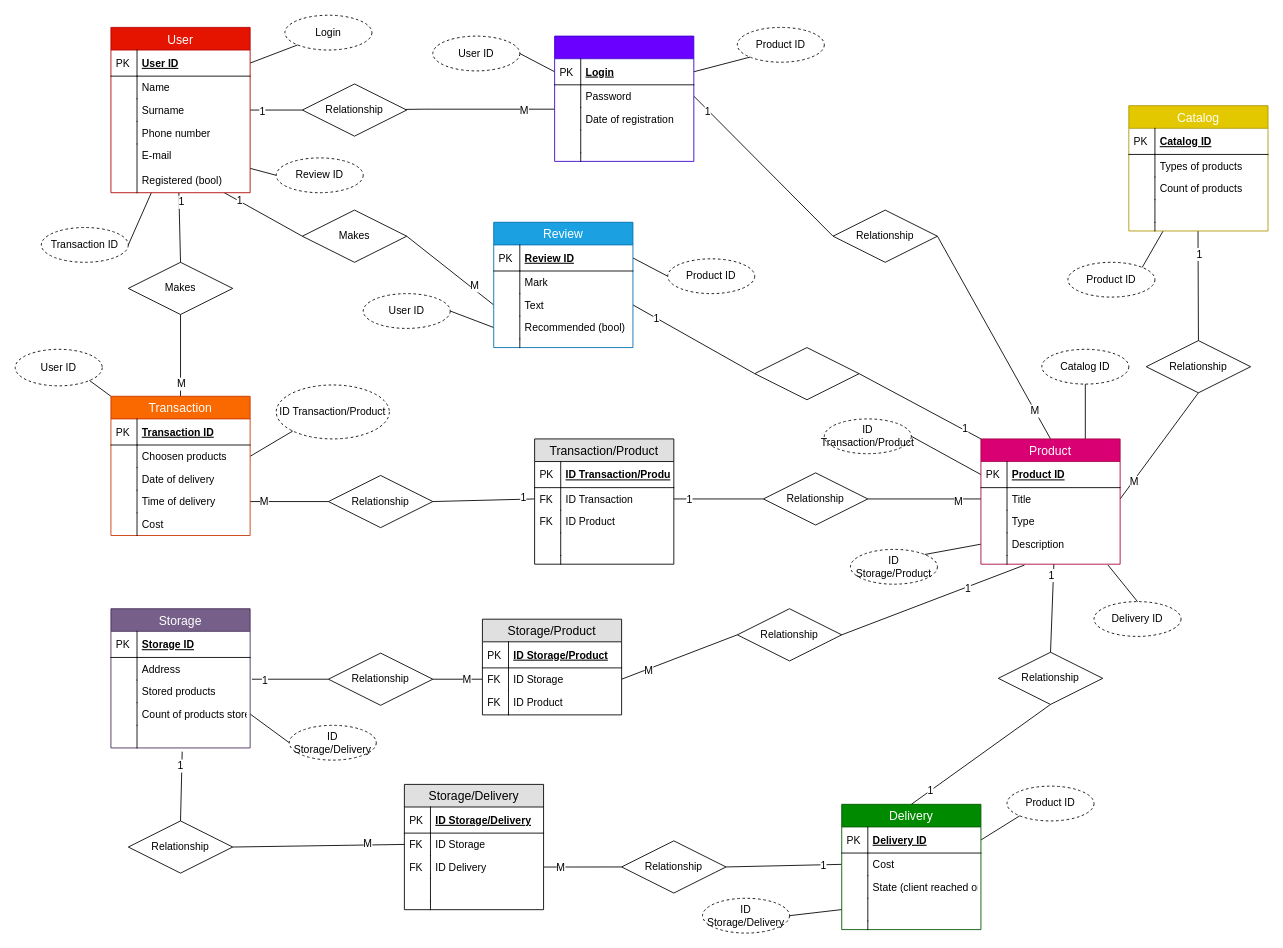
Some shapes in this 1283 by 948 pixel diagram are drawn without their labels. The box of each missing label's shape, as (x1, y1, x2, y2) in pixels:
Of: (754, 347, 859, 400)
Profile: (554, 35, 694, 161)
